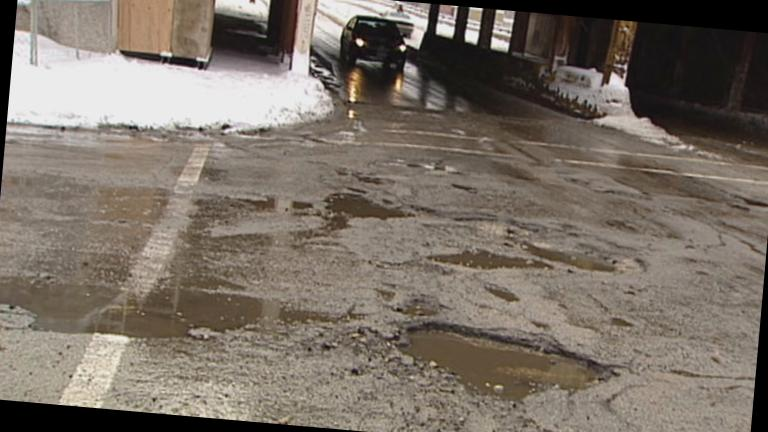pothole: (0, 268, 345, 361), (386, 316, 628, 408), (519, 227, 636, 293), (305, 177, 422, 240), (426, 236, 558, 288), (596, 186, 688, 252), (240, 187, 330, 223), (382, 153, 469, 176), (488, 154, 538, 182), (441, 176, 485, 196)
